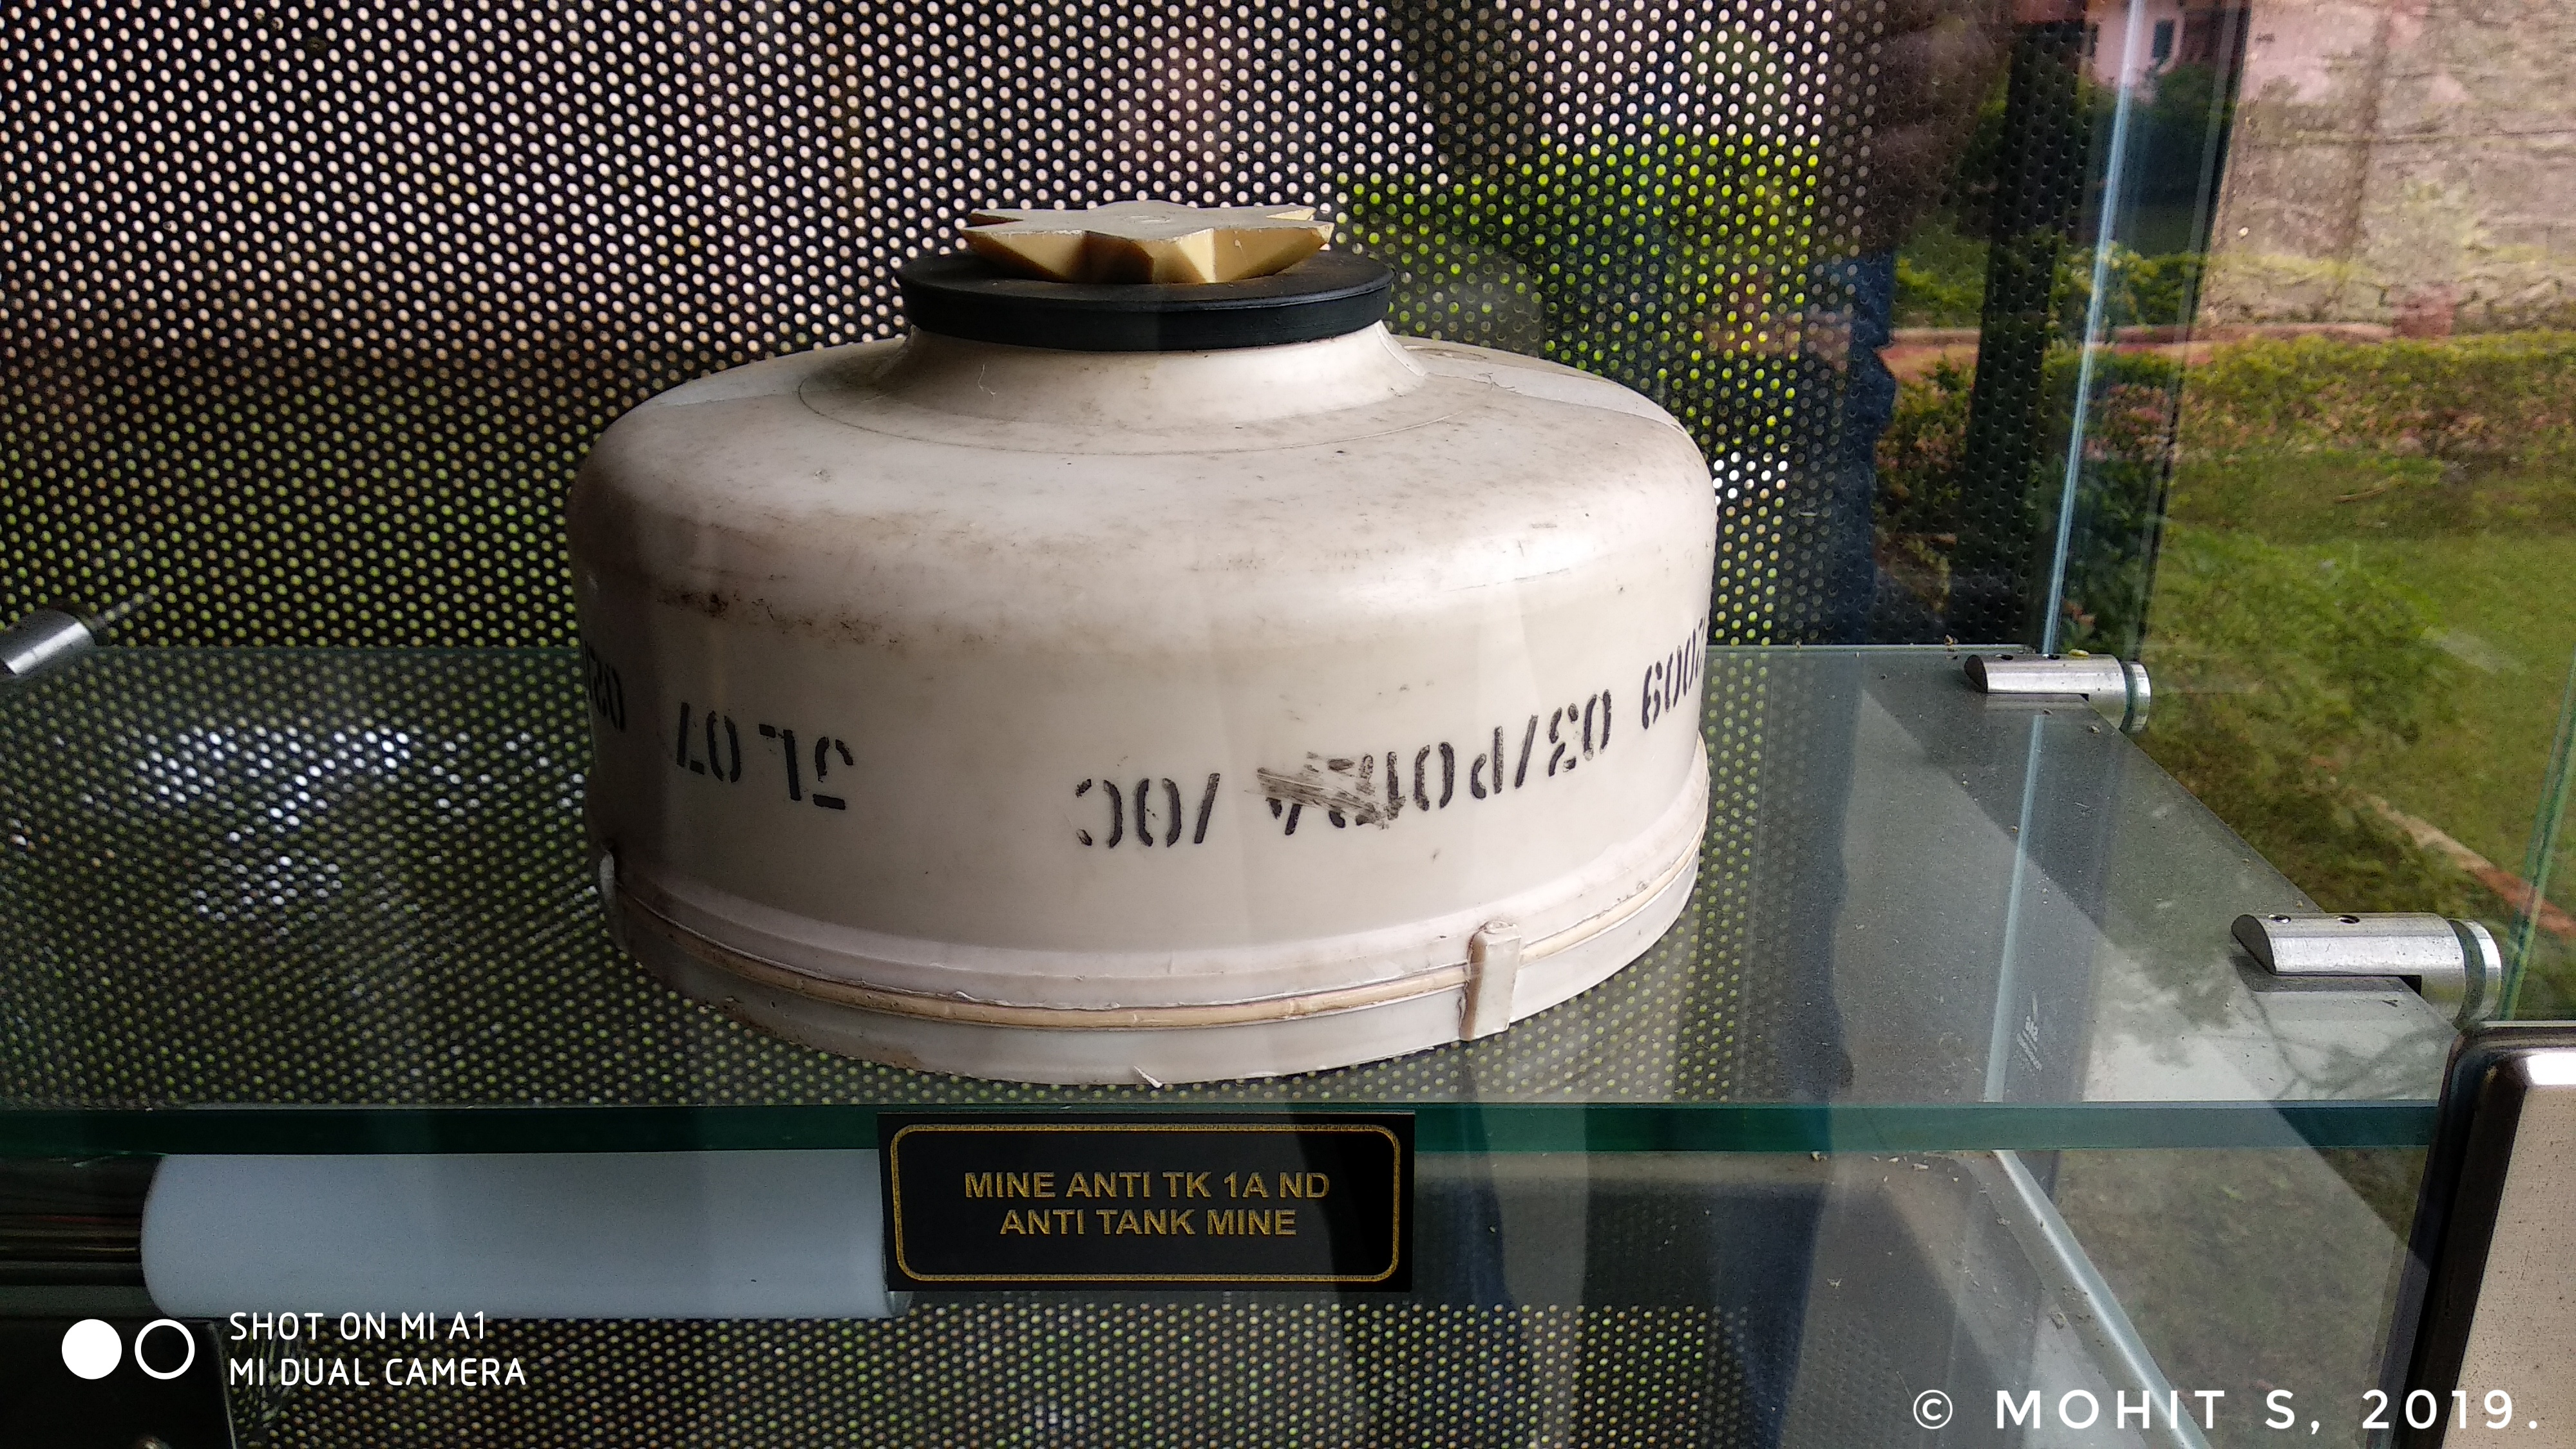car: (442, 147, 1893, 1139)
